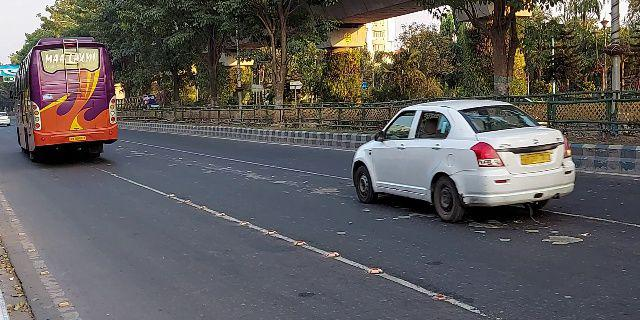Bus: (14, 36, 122, 168)
Car: (346, 95, 579, 227)
